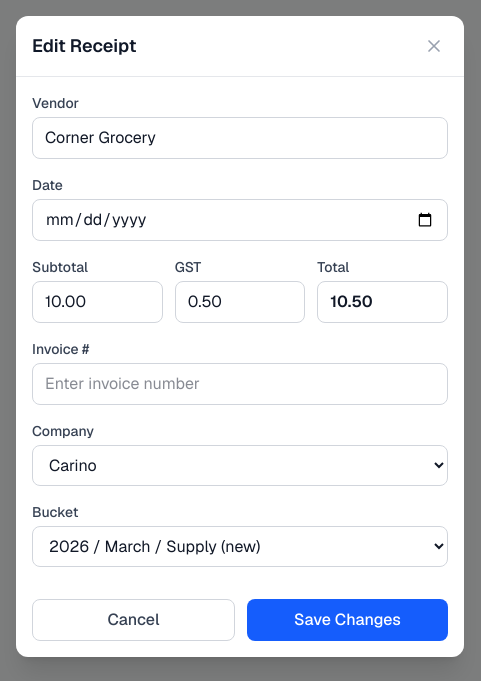
Test case: EditReceiptModal › opens an empty date on the receipt's bucket month by filling in its 1st
The width and height of the screenshot is (481, 681).
Click the date field labelled "Date" at (240, 220), box left=32, top=198, right=448, bottom=240
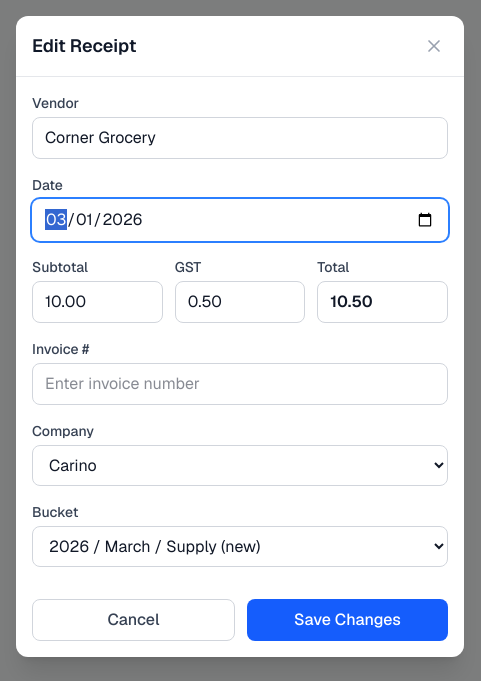
Now the date field labelled "Date" holds "2026-03-01", box left=32, top=198, right=448, bottom=240
